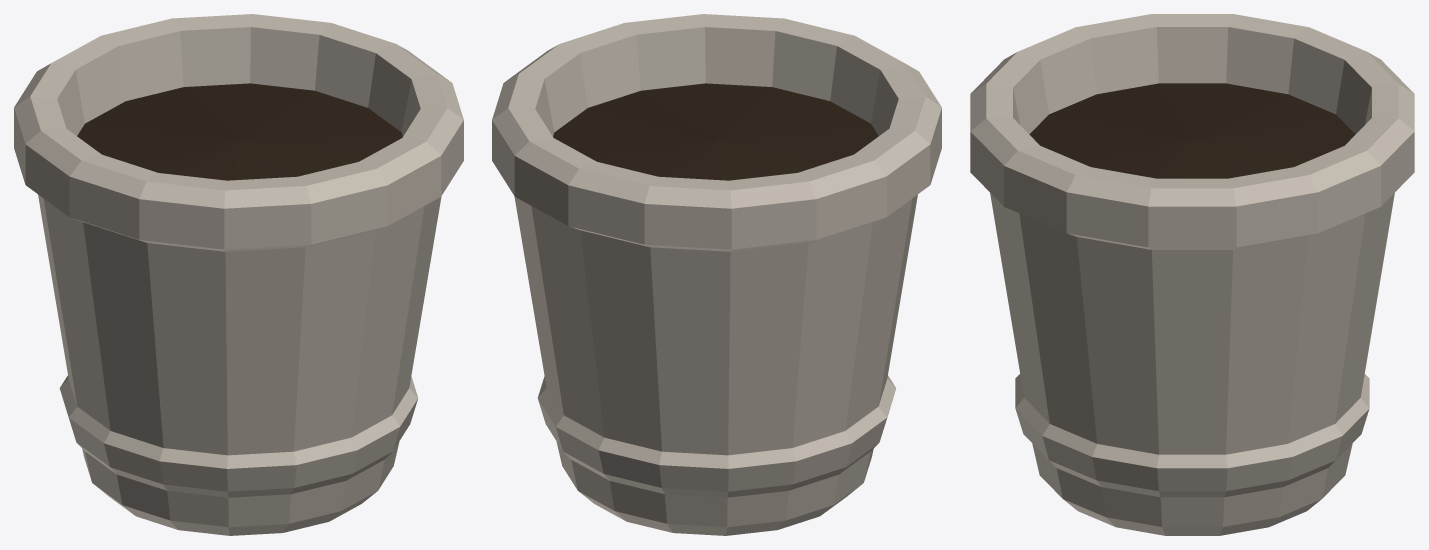
File: SM_Clutter_PlanterRound_Concrete_01.fbx
3 views of the same model, side by side, from view 1: azimuth 30°, elevation 25°; view 2: azimuth 150°, elevation 25°; view 3: azimuth 270°, elevation 25° (orthographic).
Visible parts, largest first — view 1: SM_Clutter_PlanterRound_Concrete_01; view 2: SM_Clutter_PlanterRound_Concrete_01; view 3: SM_Clutter_PlanterRound_Concrete_01.
Boxes of the visible parts, x1,y1,x2,y2 form: SM_Clutter_PlanterRound_Concrete_01: (14,14,463,535); SM_Clutter_PlanterRound_Concrete_01: (492,14,941,535); SM_Clutter_PlanterRound_Concrete_01: (970,14,1414,535).
Size of the model in its own units: 0.2452 by 0.23 by 0.2452.
Materials: 1 (1 with a texture image).
